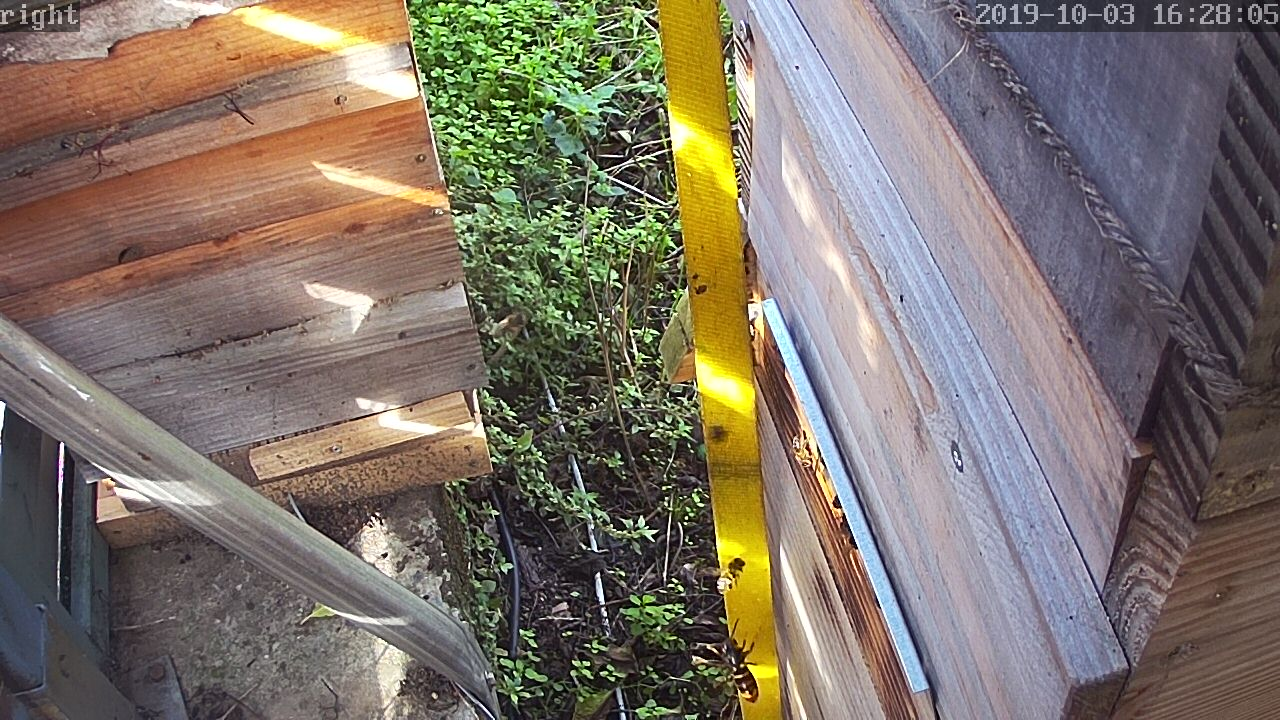bee: (714, 554, 747, 593), (786, 431, 816, 471)
hornet: (714, 632, 767, 704)
